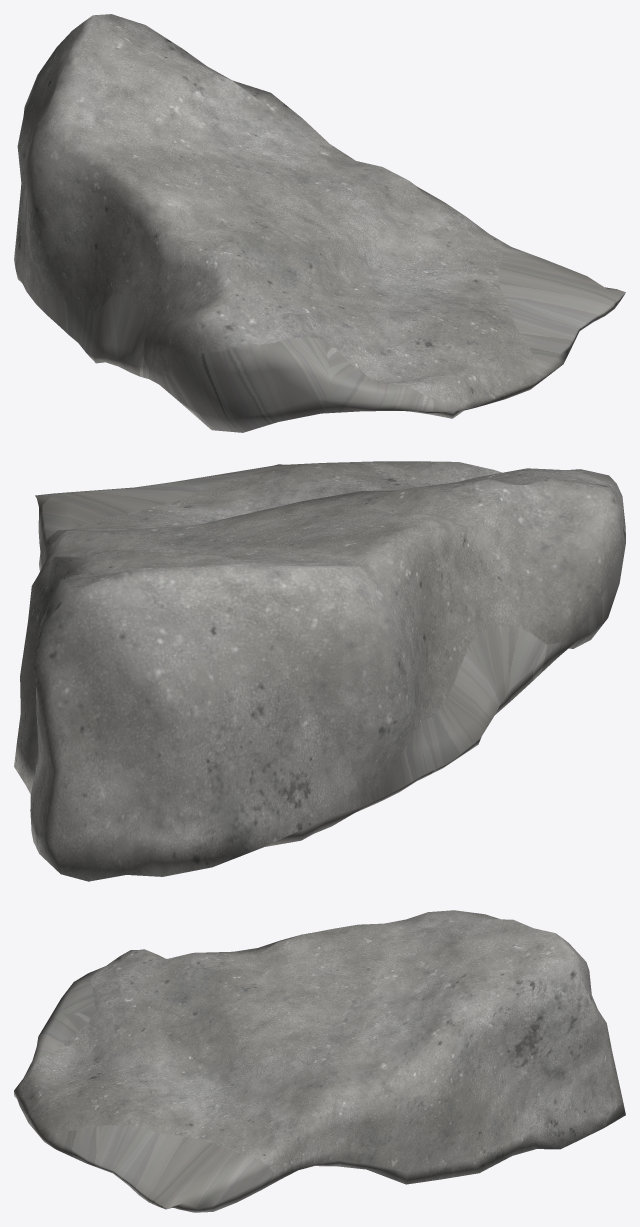
The model's file is rock3.fbx.
The picture shows the model from 3 angles, top to bottom: view 1: azimuth 30°, elevation 25°; view 2: azimuth 150°, elevation 25°; view 3: azimuth 270°, elevation 25°; orthographic projection. The views are drawn at different scales.
Parts seen in each view (by area): view 1: rock3; view 2: rock3; view 3: rock3.
Part boxes in pixels (bbox=[...]): rock3: bbox=[14, 14, 625, 432]; rock3: bbox=[14, 461, 625, 881]; rock3: bbox=[14, 910, 625, 1212].
Bounding box in the file's own units: 846 × 402 × 1172.
Materials: 1 (1 with a texture image).
